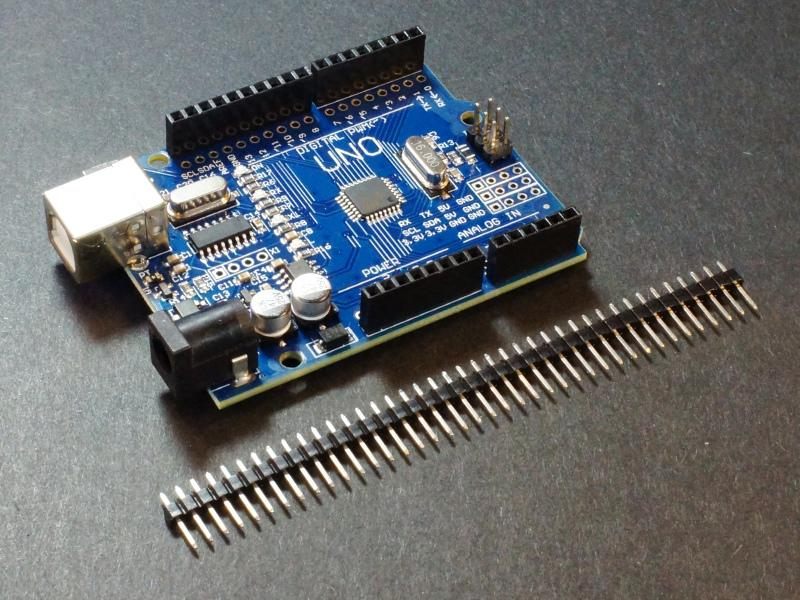Arduino UNO SMD: (41, 24, 592, 414)
